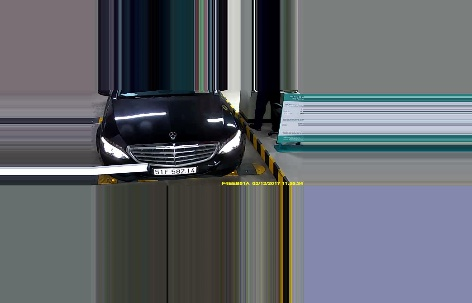plate: (152, 165, 198, 174)
